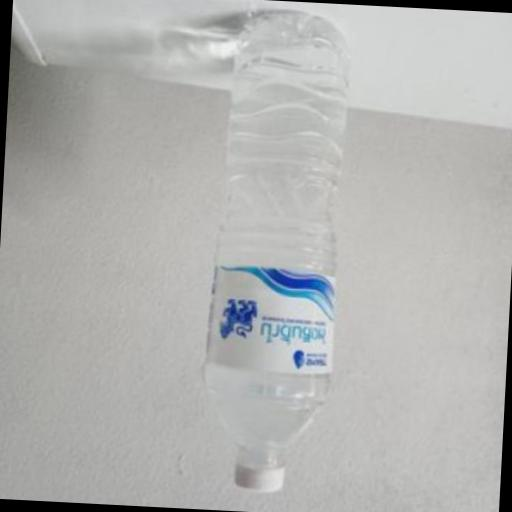Coca: (190, 0, 365, 509)
